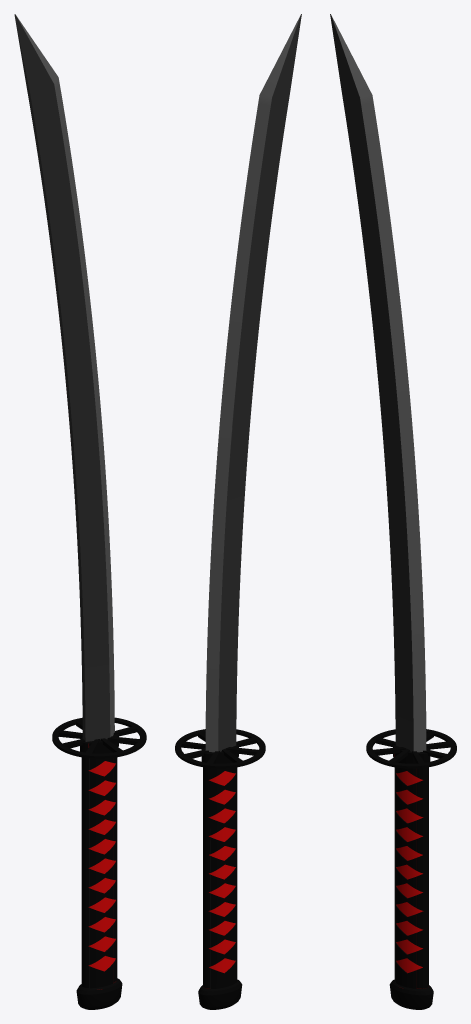
The model's file is unityKatana2.fbx.
The picture shows the model from 3 angles, left to right: view 1: azimuth 30°, elevation 25°; view 2: azimuth 210°, elevation 25°; view 3: azimuth 330°, elevation 25°; orthographic projection. The views are drawn at different scales.
Parts seen in each view (by area): view 1: KatanaSimple.001; view 2: KatanaSimple.001; view 3: KatanaSimple.001.
Boxes of the visible parts, left/top/right/bottom form: KatanaSimple.001: left=14, top=14, right=146, bottom=1009; KatanaSimple.001: left=175, top=14, right=301, bottom=1009; KatanaSimple.001: left=330, top=14, right=456, bottom=1009.
Size of the model in its own units: 221 by 1694 by 143.
Materials: 1 (1 with a texture image).
